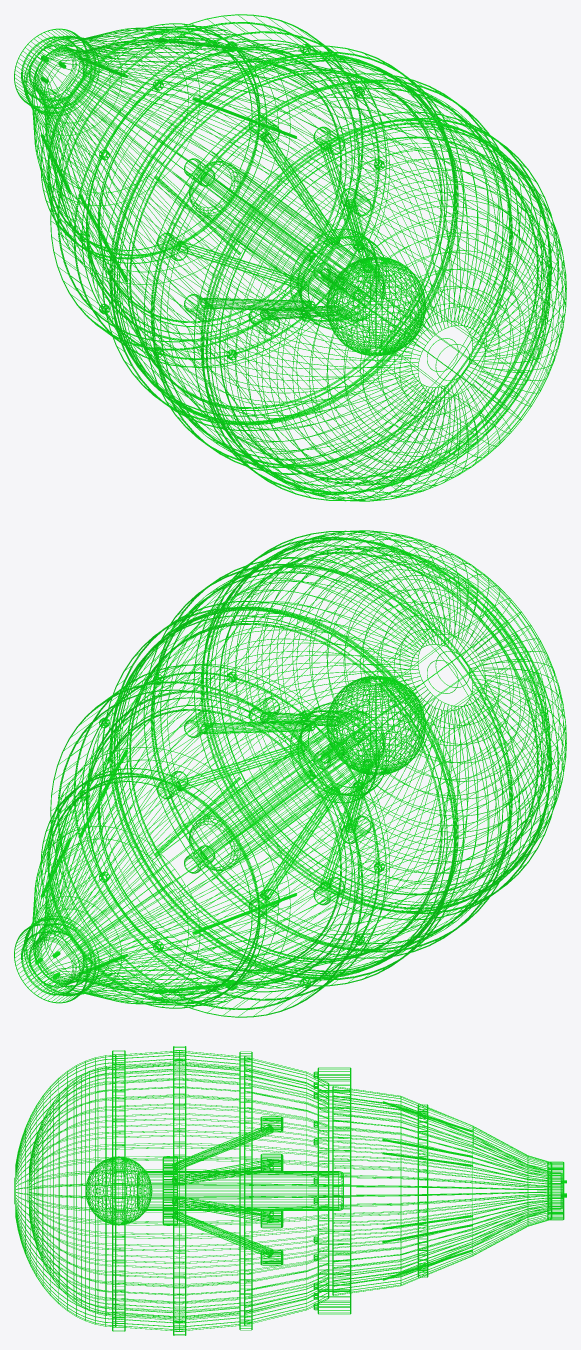
The model's file is shield-x50-wireframe.glb.
The picture shows the model from 3 angles, top to bottom: view 1: azimuth 30°, elevation 25°; view 2: azimuth 150°, elevation 25°; view 3: azimuth 270°, elevation 25°; orthographic projection. The views are drawn at different scales.
Parts seen in each view (by area): view 1: paramagnetic-shielding technical wire, chassis technical wire, generator-and-broadcast-system technical wire, power-input technical wire; view 2: chassis technical wire, paramagnetic-shielding technical wire, generator-and-broadcast-system technical wire, power-input technical wire; view 3: chassis technical wire, paramagnetic-shielding technical wire, generator-and-broadcast-system technical wire, power-input technical wire.
Part boxes in pixels (bbox=[...]): paramagnetic-shielding technical wire: bbox=[116, 58, 566, 501]; chassis technical wire: bbox=[23, 14, 464, 430]; generator-and-broadcast-system technical wire: bbox=[157, 114, 425, 356]; power-input technical wire: bbox=[14, 28, 99, 116]; chassis technical wire: bbox=[23, 601, 464, 1017]; paramagnetic-shielding technical wire: bbox=[117, 530, 566, 973]; generator-and-broadcast-system technical wire: bbox=[157, 675, 425, 917]; power-input technical wire: bbox=[14, 915, 99, 1003]; chassis technical wire: bbox=[239, 1051, 552, 1330]; paramagnetic-shielding technical wire: bbox=[14, 1046, 239, 1335]; generator-and-broadcast-system technical wire: bbox=[86, 1116, 343, 1265]; power-input technical wire: bbox=[547, 1161, 566, 1220].
Bounding box in the file's own units: 2.05 × 2.05 × 3.9.
